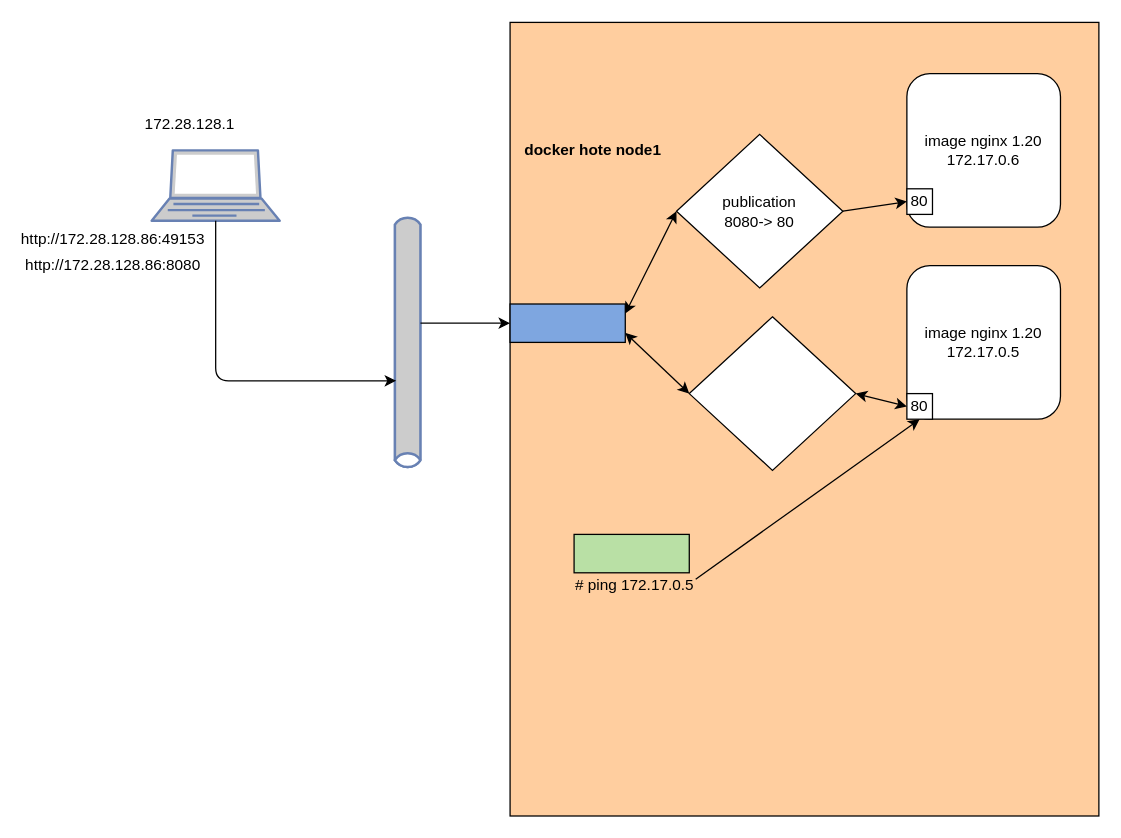
This 1121x838 diagram has some shape labels left out. Each missing label, with the box of its shape:
docker0 172.17.0.1: (573, 533, 689, 573)
enp0s8 172.28.128.86: (509, 303, 625, 342)
publication 49153-> 80: (688, 316, 856, 470)
